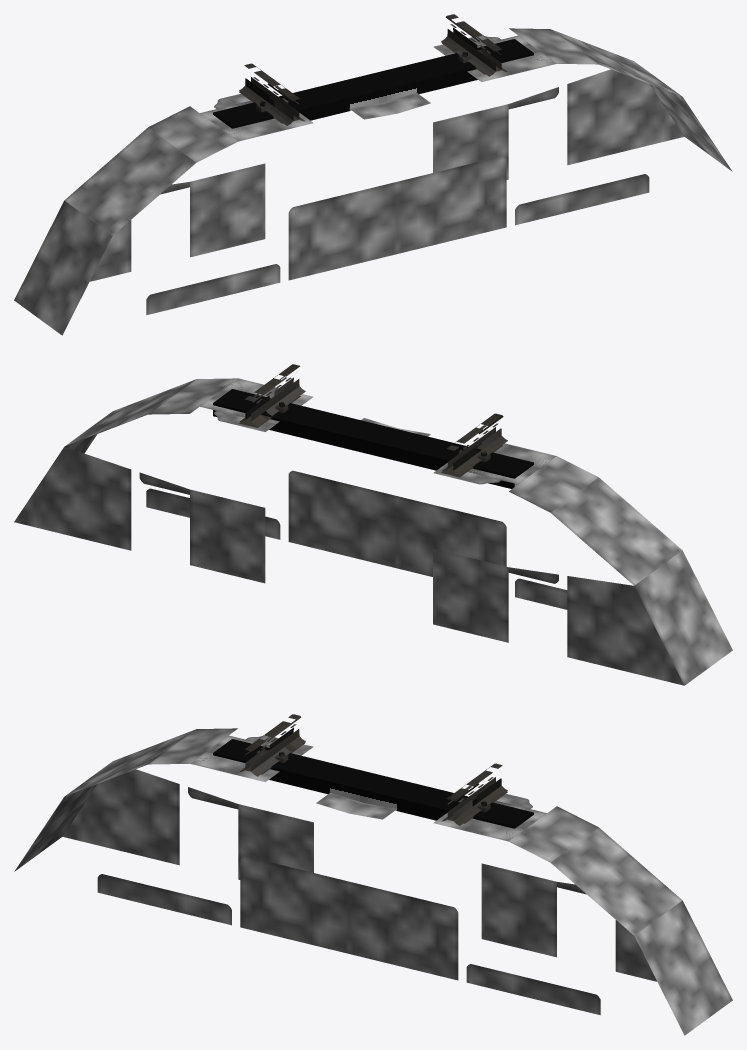
The model's file is drrc_rail_ballastconcrete_sleeper.obj.
The picture shows the model from 3 angles, top to bottom: view 1: azimuth 30°, elevation 25°; view 2: azimuth 150°, elevation 25°; view 3: azimuth 330°, elevation 25°; orthographic projection.
Parts seen in each view (by area): view 1: cuboid, rail; view 2: cuboid, rail; view 3: cuboid, rail.
Boxes of the visible parts, x1,y1,x2,y2 form: cuboid: (14,28,732,335); rail: (239,14,507,125); cuboid: (14,378,732,685); rail: (239,364,507,477); cuboid: (14,728,732,1035); rail: (239,714,507,825).
Bounding box in the file's own units: 5 × 1.28 × 0.625.
Materials: 3 (3 with a texture image).
